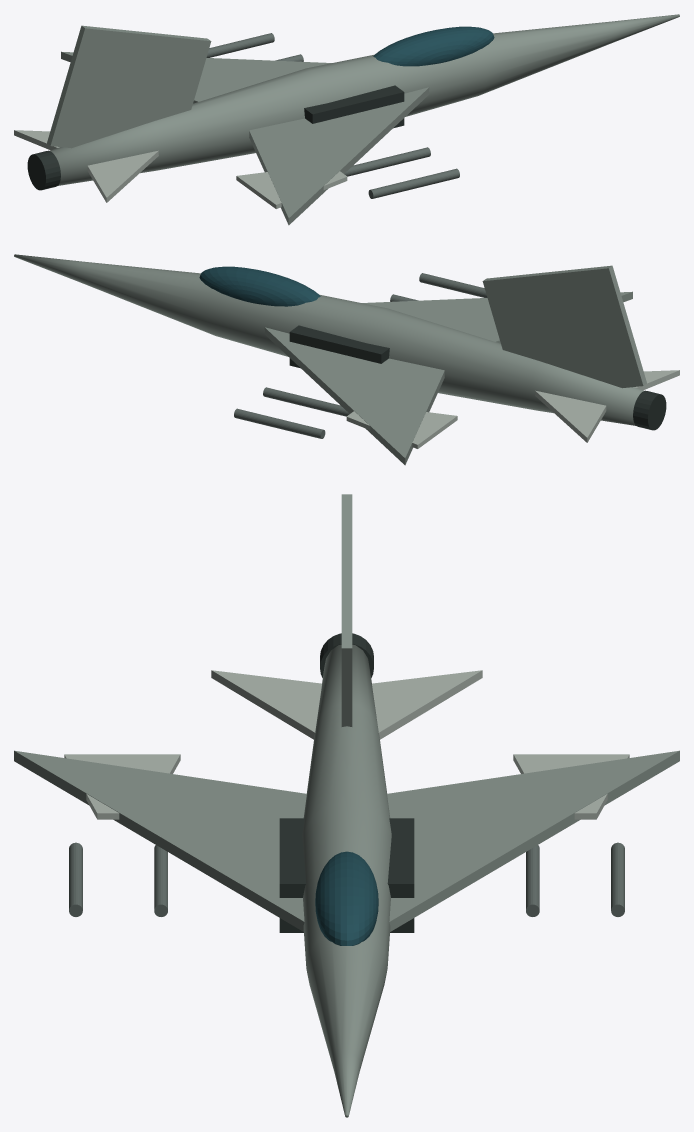
File: fighter.glb
3 views of the same model, one above another, from view 1: azimuth 30°, elevation 25°; view 2: azimuth 150°, elevation 25°; view 3: azimuth 270°, elevation 25° (orthographic). The views are drawn at different scales.
Visible parts, largest first — view 1: FighterFuselage, VerticalTail, DeltaWing, FighterCanopy, TailPlane, Intake_1, EngineNozzle, AileronSurface.001, GuidedMissile.003, GuidedMissile.002, GuidedMissile.001; view 2: FighterFuselage, VerticalTail, DeltaWing, FighterCanopy, TailPlane, Intake_-1, EngineNozzle, AileronSurface, GuidedMissile.001, GuidedMissile, GuidedMissile.003; view 3: DeltaWing, FighterFuselage, TailPlane, FighterCanopy, VerticalTail, Intake_-1, Intake_1, AileronSurface, AileronSurface.001, GuidedMissile.001, GuidedMissile.003, GuidedMissile (+1 smaller).
Part boxes in pixels (x1,y1,x2,y2): FighterFuselage: (50,14,679,185); VerticalTail: (47,25,211,148); DeltaWing: (61,51,429,225); FighterCanopy: (373,26,494,66); TailPlane: (14,130,158,202); Intake_1: (304,85,404,128); EngineNozzle: (27,150,60,190); AileronSurface.001: (236,171,347,208); GuidedMissile.003: (368,168,459,198); GuidedMissile.002: (344,147,430,176); GuidedMissile.001: (206,33,274,57); FighterFuselage: (14,254,643,425); VerticalTail: (482,265,646,388); DeltaWing: (264,291,632,465); FighterCanopy: (199,266,320,306); TailPlane: (535,370,679,442); Intake_-1: (289,325,389,368); EngineNozzle: (633,390,666,430); AileronSurface: (346,411,457,448); GuidedMissile.001: (234,408,325,438); GuidedMissile: (263,387,349,416); GuidedMissile.003: (419,273,487,297); DeltaWing: (14,750,679,931); FighterFuselage: (302,644,391,1117); TailPlane: (211,670,482,739); FighterCanopy: (315,851,378,945); VerticalTail: (341,494,352,726); Intake_-1: (387,818,414,932); Intake_1: (279,818,306,932); AileronSurface: (513,754,629,819); AileronSurface.001: (64,754,180,819); GuidedMissile.001: (611,842,624,916); GuidedMissile.003: (69,842,82,916); GuidedMissile: (526,845,539,916).
Bounding box in the file's own units: 28.02 × 7.04 × 17.2.
